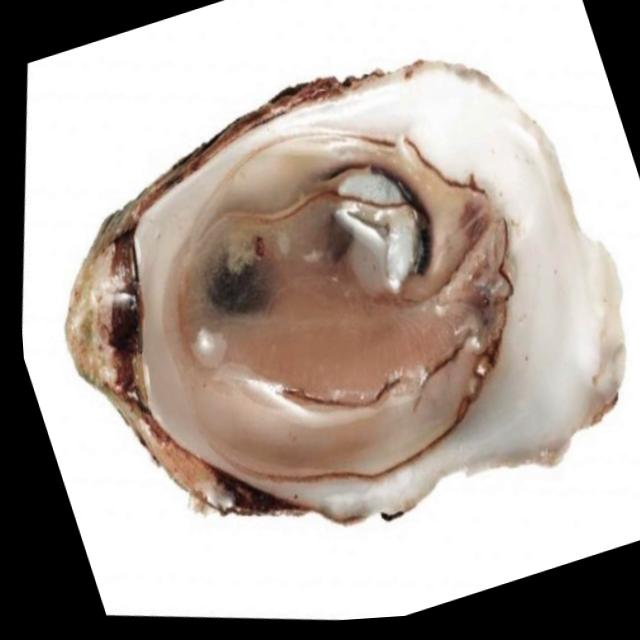Oyster-Open: (5, 2, 640, 604)
